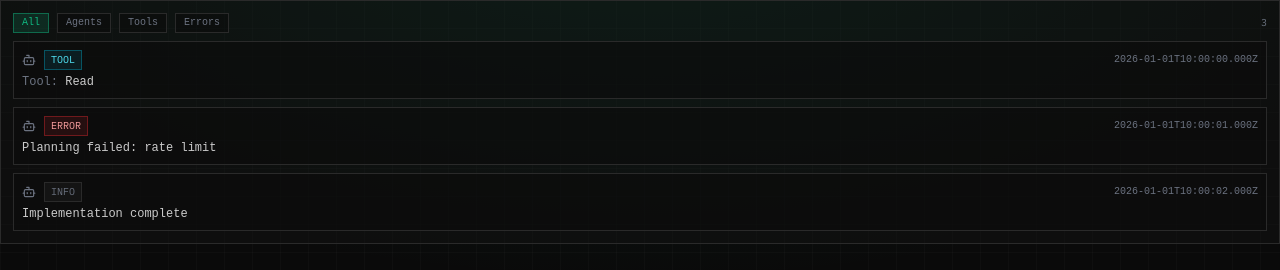
Test: AgentTimeline › filters entries by Tools
The width and height of the screenshot is (1280, 270).
Click the button "Tools" at [143, 23], box [119,13,167,33]
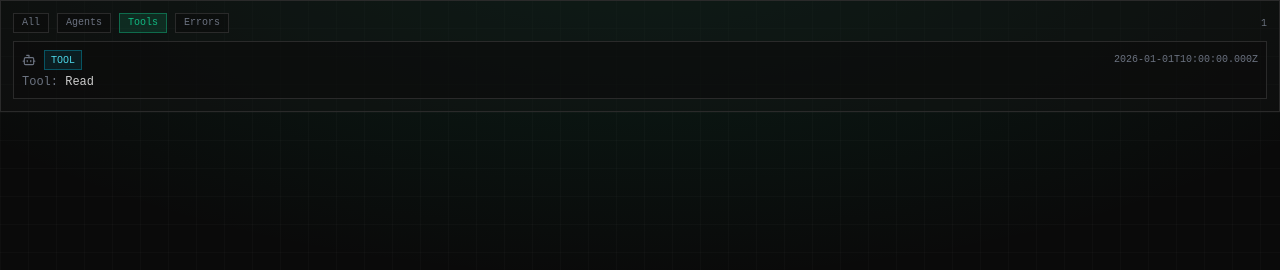
Check: the text "Read" is shown, box [65,75,94,89]
Check: the text "Planning failed: rate limit" is gone
Check: the text "Implementation complete" is gone
